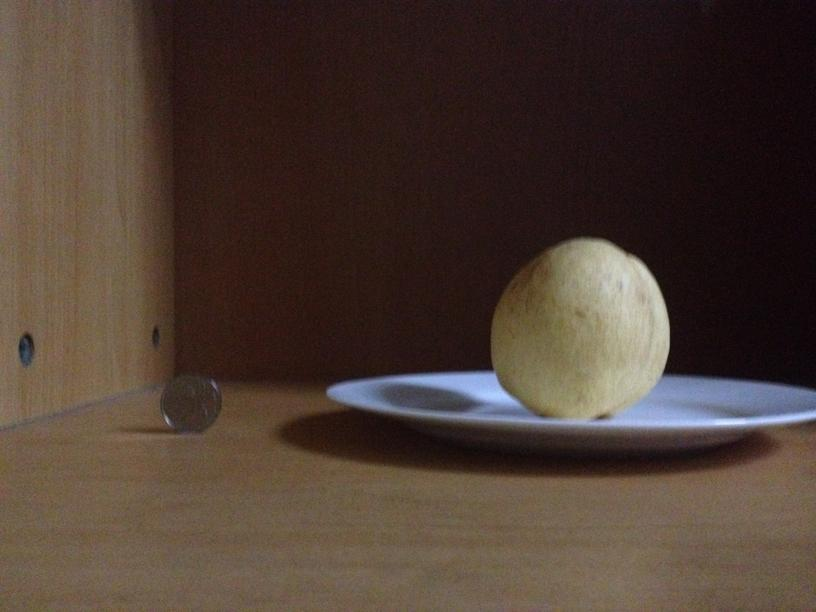coin: (158, 370, 224, 432)
pear: (491, 237, 672, 419)
